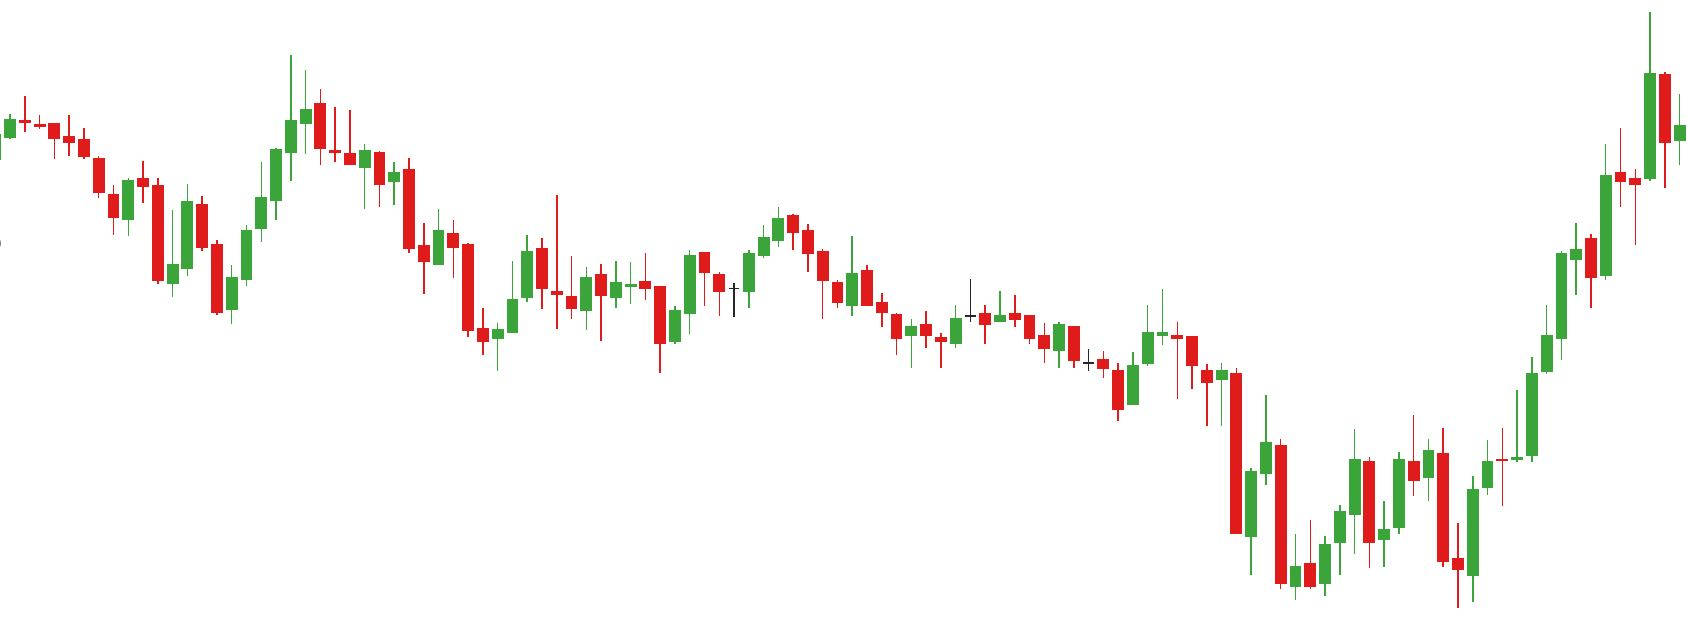buy: (1302, 492, 1480, 611), (153, 220, 242, 325), (592, 268, 680, 370)
sell: (18, 57, 329, 193), (1054, 293, 1171, 374)
